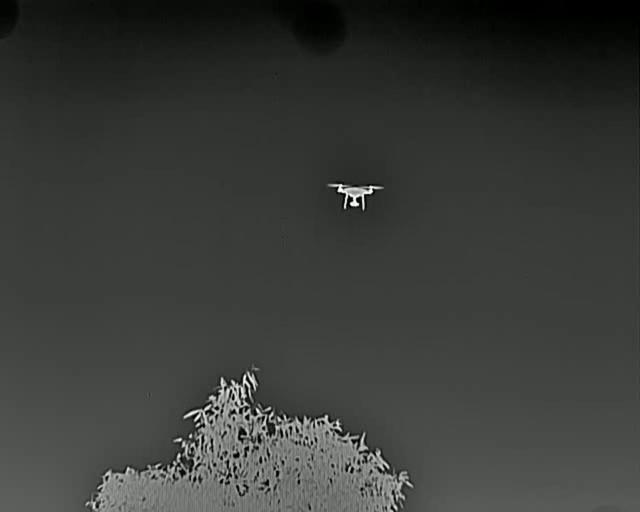DJI-Phantom: (326, 180, 385, 215)
